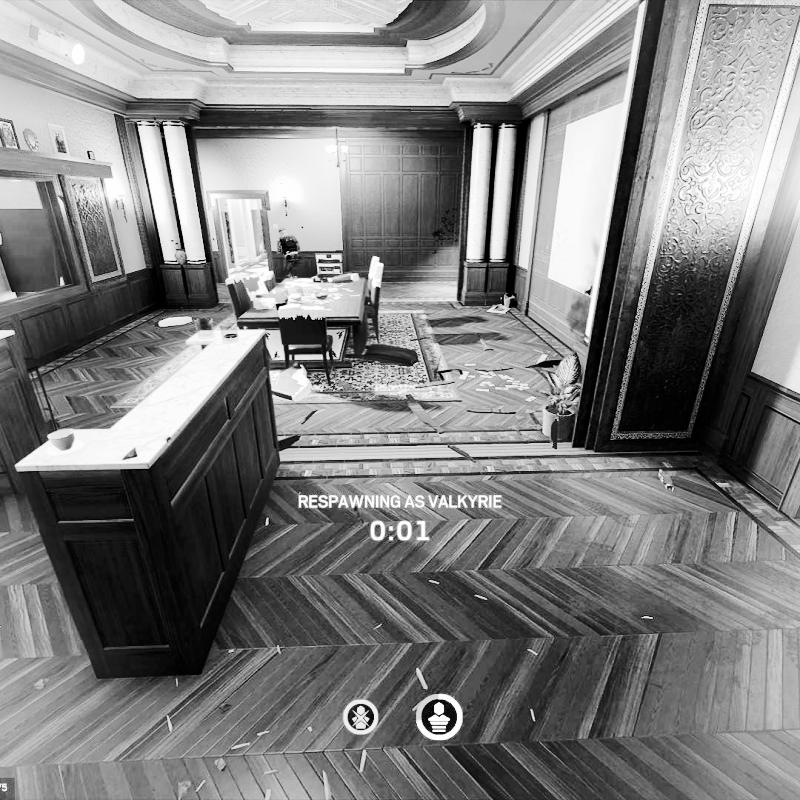Character: (275, 225, 304, 278)
Head: (278, 226, 287, 236)
